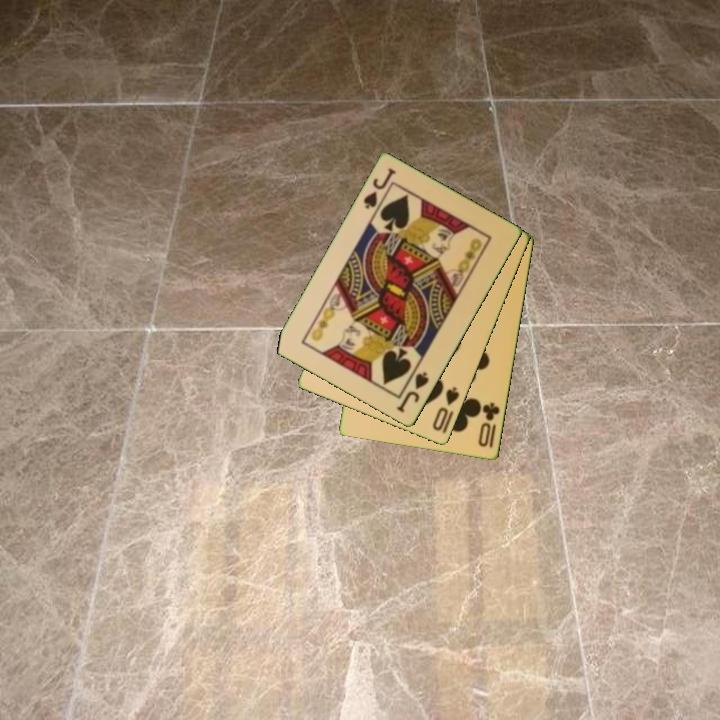10c: (475, 399, 503, 451)
10s: (429, 383, 462, 434)
Js: (360, 165, 399, 217), (393, 368, 432, 416)
